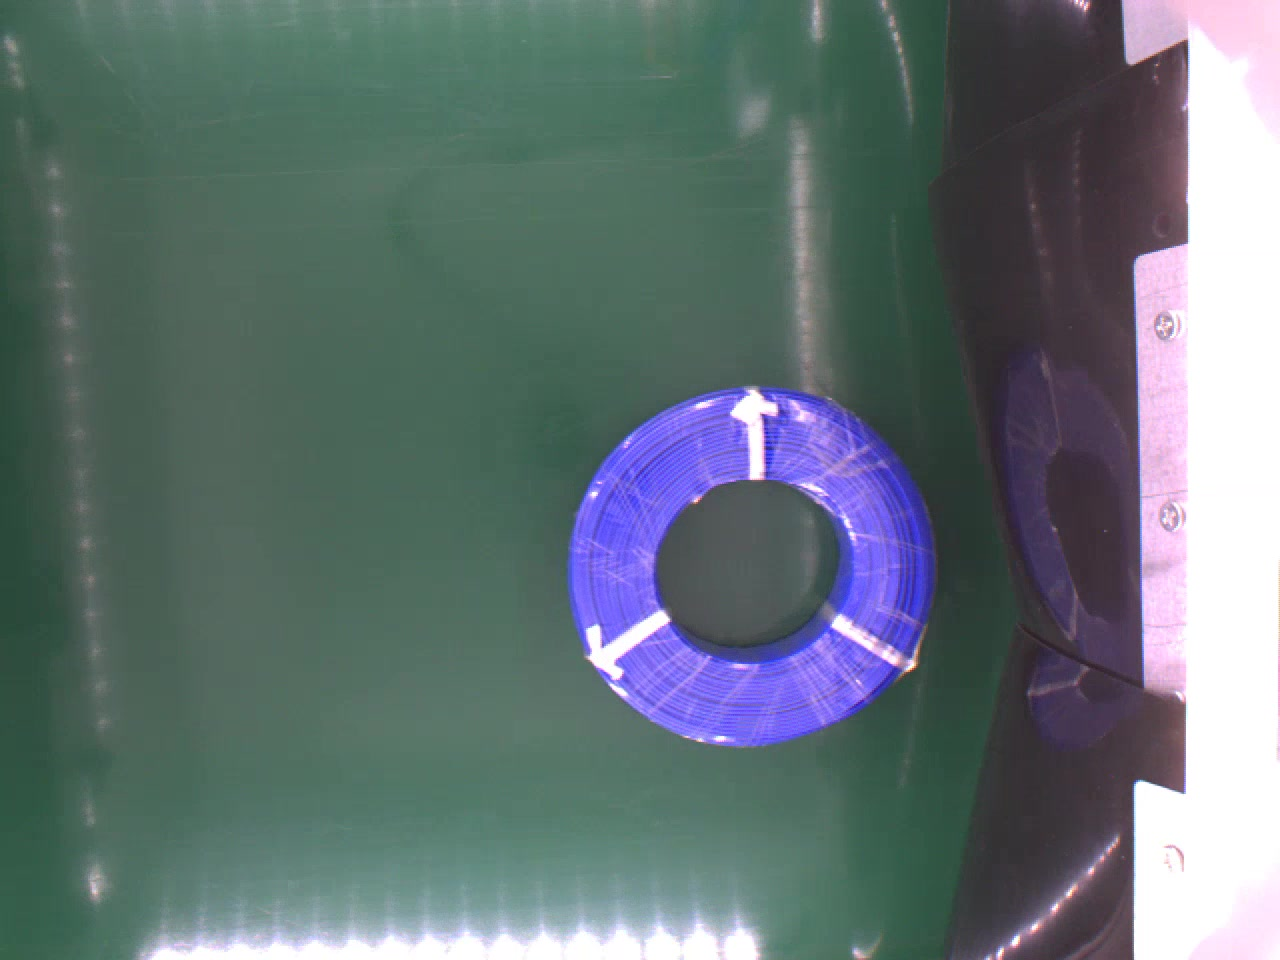blue: (566, 385, 936, 746)
